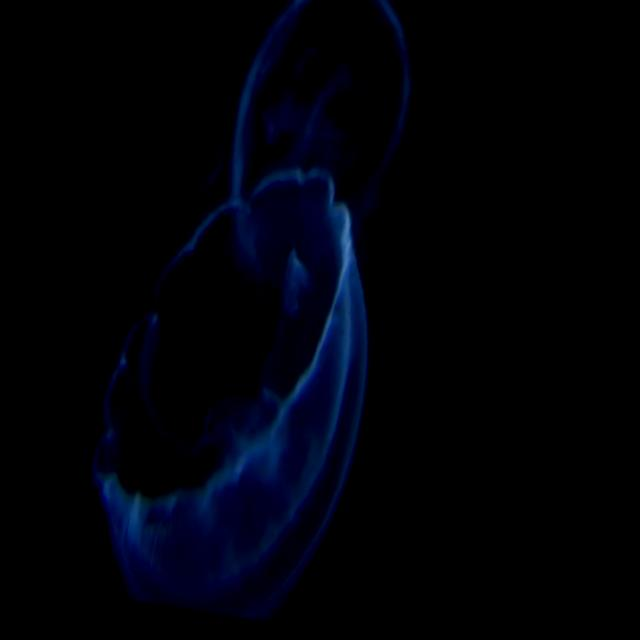Moon-jellyfish: (41, 172, 369, 626), (219, 0, 414, 294)
